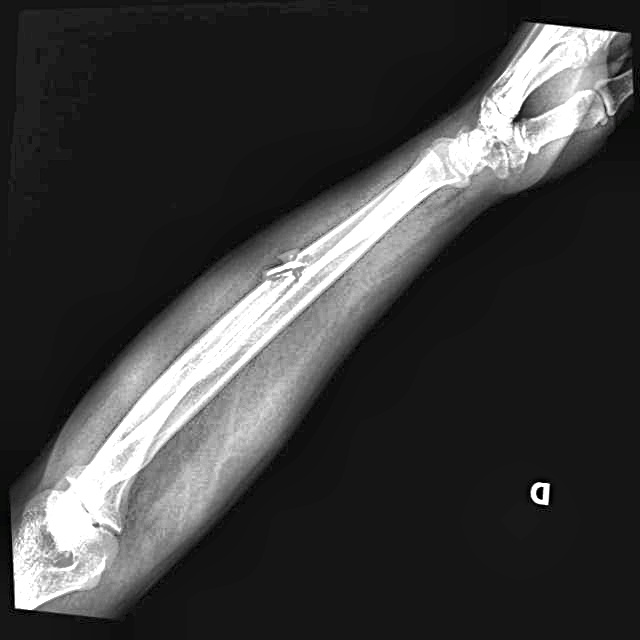Greenstick: (248, 238, 317, 306)
